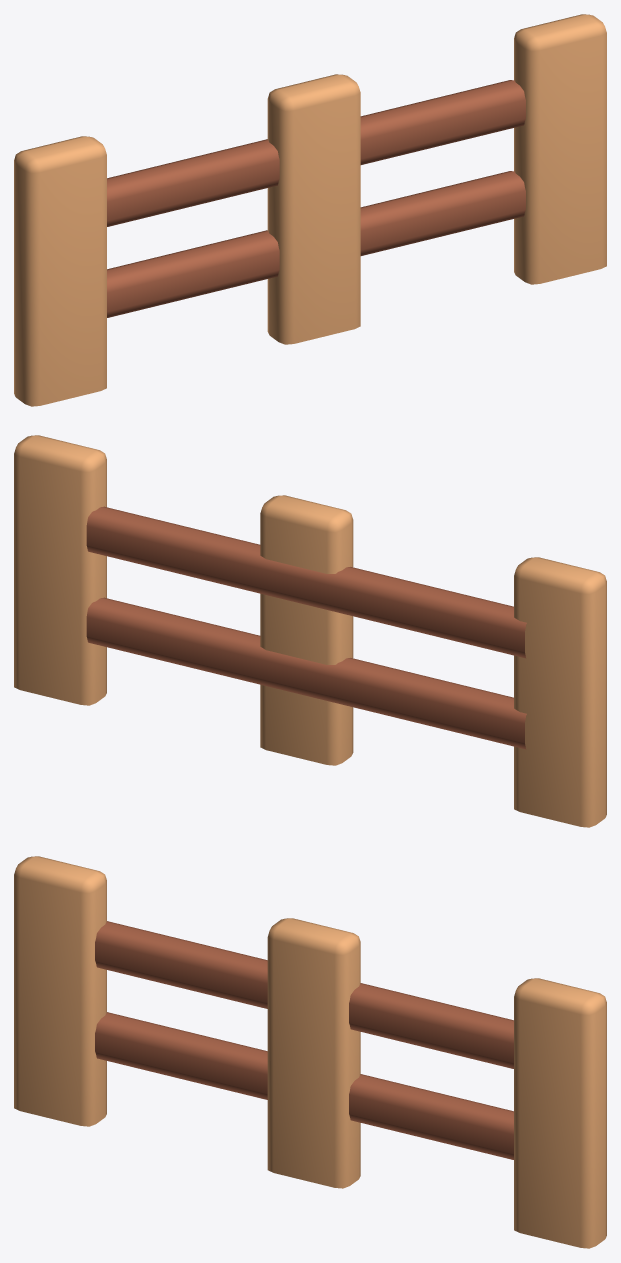
File: Wooden_Fence_07.fbx
The picture shows the model from 3 angles, top to bottom: view 1: azimuth 30°, elevation 25°; view 2: azimuth 150°, elevation 25°; view 3: azimuth 330°, elevation 25°; orthographic projection.
Visible parts, largest first — view 1: Wooden_Fence_07; view 2: Wooden_Fence_07; view 3: Wooden_Fence_07.
Boxes of the visible parts, x1,y1,x2,y2 form: Wooden_Fence_07: (14, 14, 606, 406); Wooden_Fence_07: (14, 435, 606, 827); Wooden_Fence_07: (14, 856, 606, 1248).
Bounding box in the file's own units: 2190 × 878 × 150.
